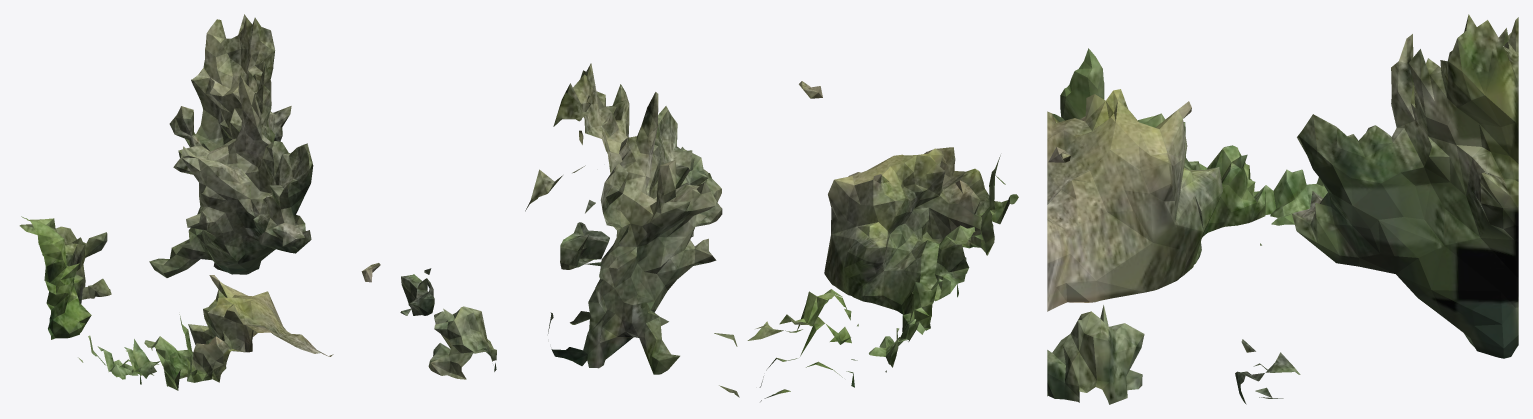
3 renders of one model, left to right at view 1: azimuth 30°, elevation 25°; view 2: azimuth 150°, elevation 25°; view 3: azimuth 270°, elevation 25°, orthographic. The views are drawn at different scales.
Bounding box in the file's own units: 23.6 × 18.38 × 23.6.
4 materials, 4 textured.
